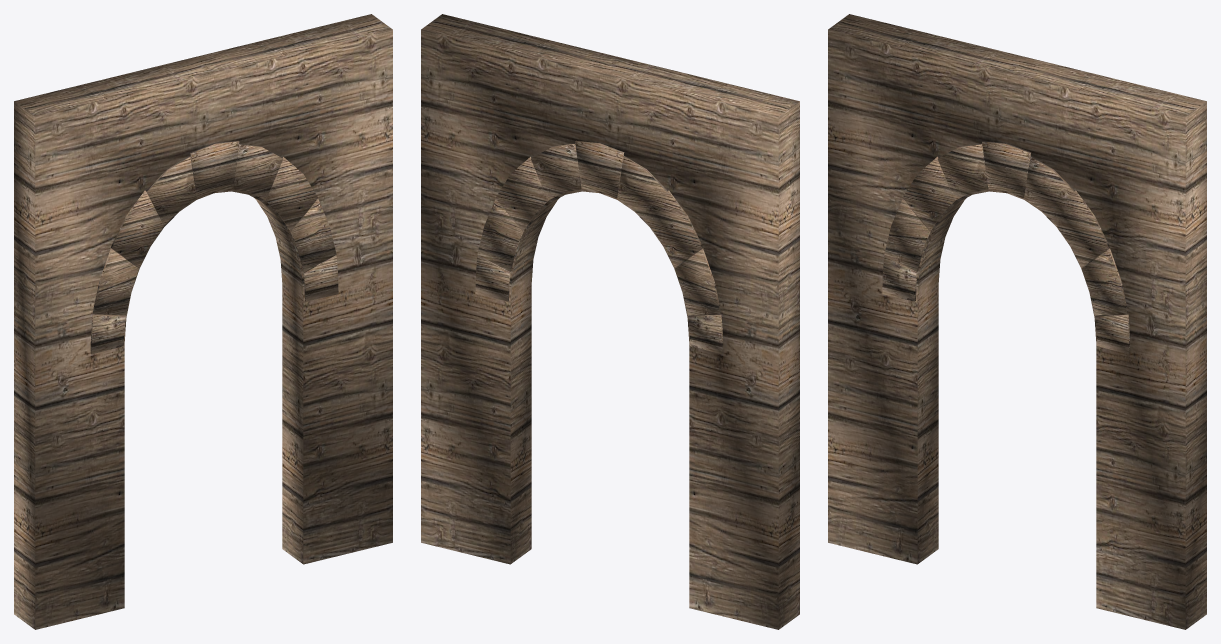
Rendered from wood door3.glb.
3 views of the same model, side by side, from view 1: azimuth 30°, elevation 25°; view 2: azimuth 150°, elevation 25°; view 3: azimuth 330°, elevation 25° (orthographic).
Parts seen in each view (by area): view 1: Circular Doorway.001; view 2: Circular Doorway.001; view 3: Circular Doorway.001.
Boxes of the visible parts, <box> form: Circular Doorway.001: <box>14,14,392,629</box>; Circular Doorway.001: <box>421,14,799,629</box>; Circular Doorway.001: <box>828,14,1206,629</box>.
Size of the model in its own units: 2 by 2.74 by 0.225.
2 materials, 2 textured.
